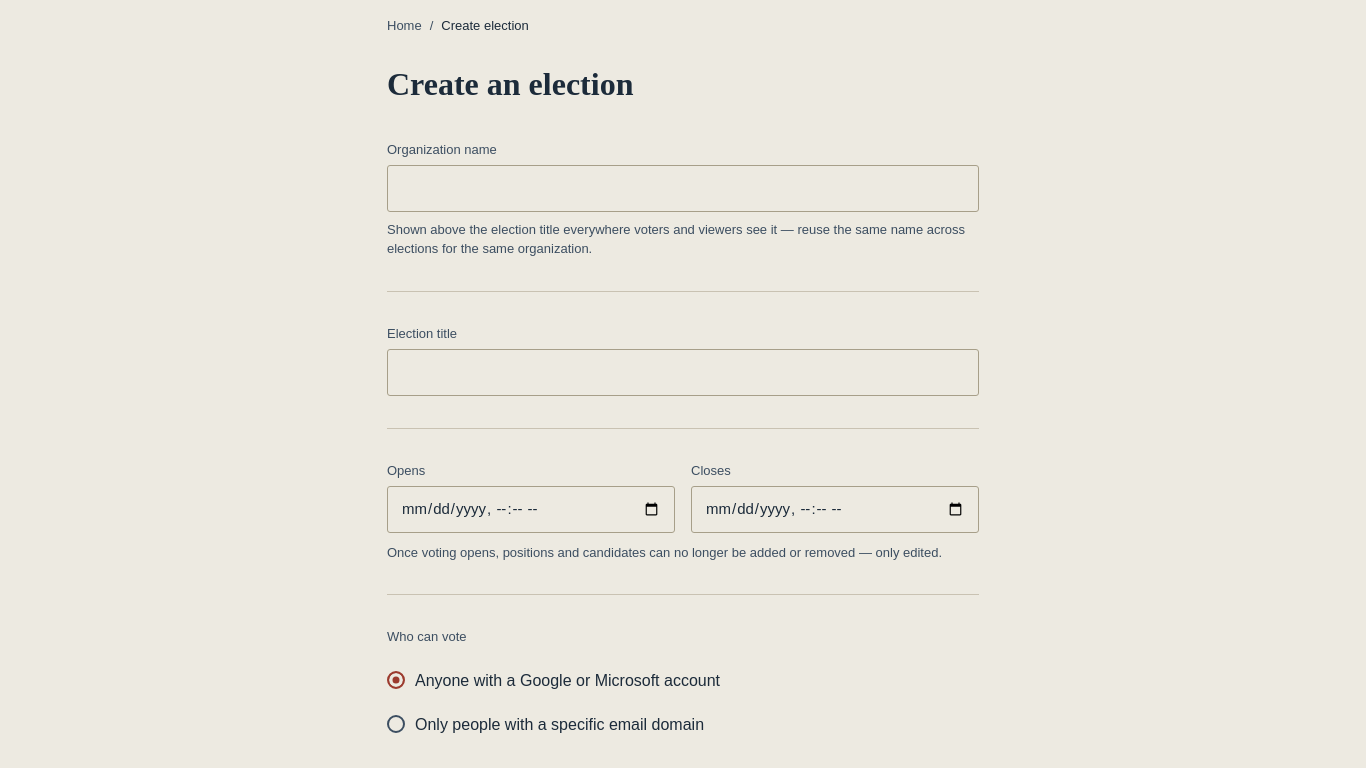
Test: CreateElectionForm validation › blocks submit when a date is cleared instead of throwing on toISOString
Type "Riverside Co-op" into the field labelled "Organization name" at (683,188), box left=387, top=165, right=979, bottom=212
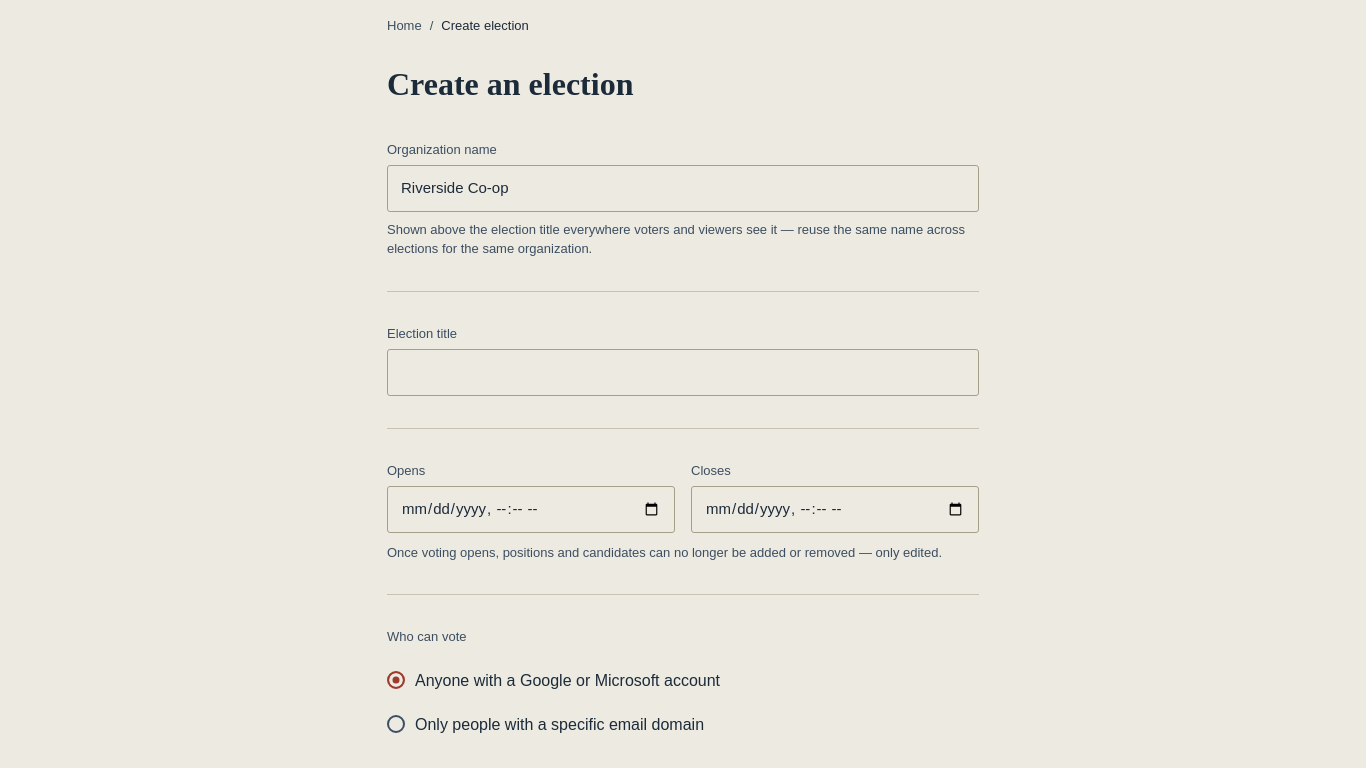
Type "  Board election  " into the field labelled "Election title" at (683,372), box left=387, top=349, right=979, bottom=396
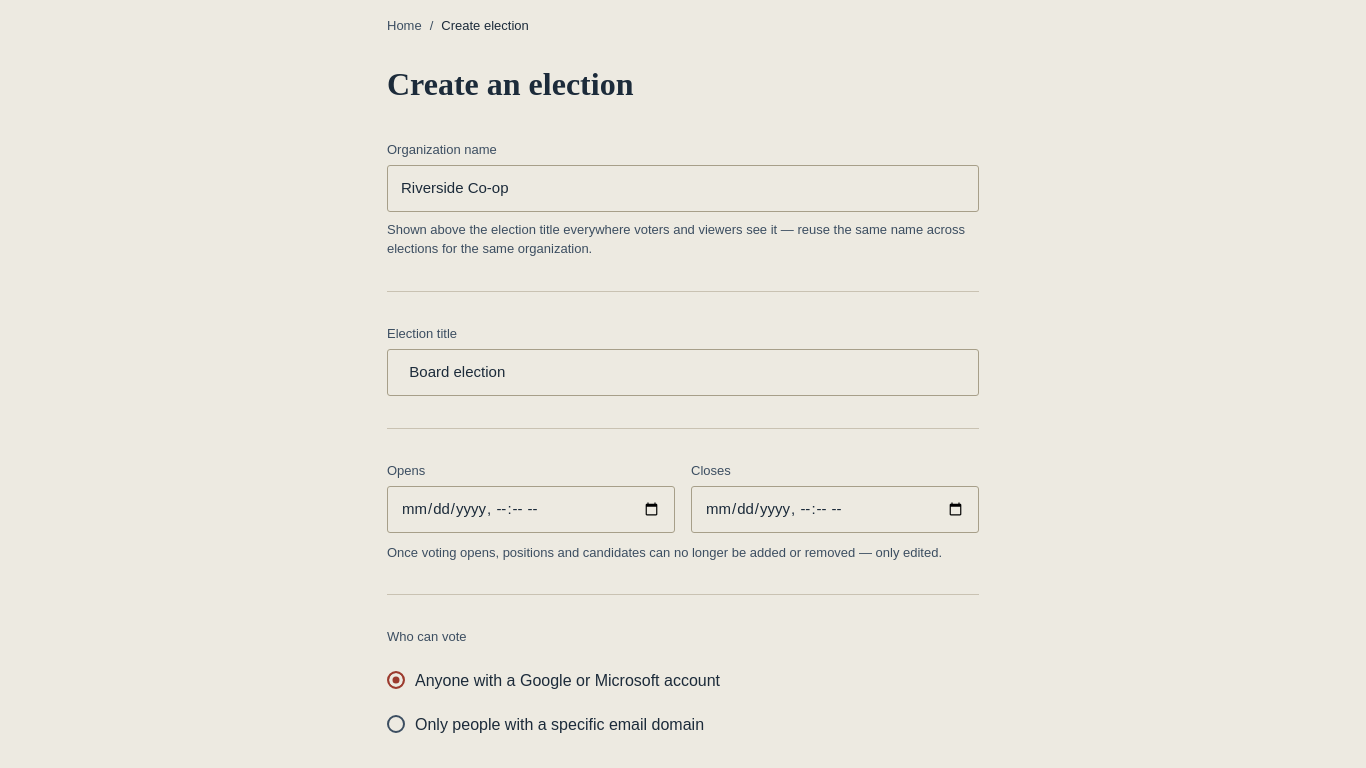
Type "2099-01-01T09:00" into the field labelled "Opens" at (531,509), box left=387, top=486, right=675, bottom=532
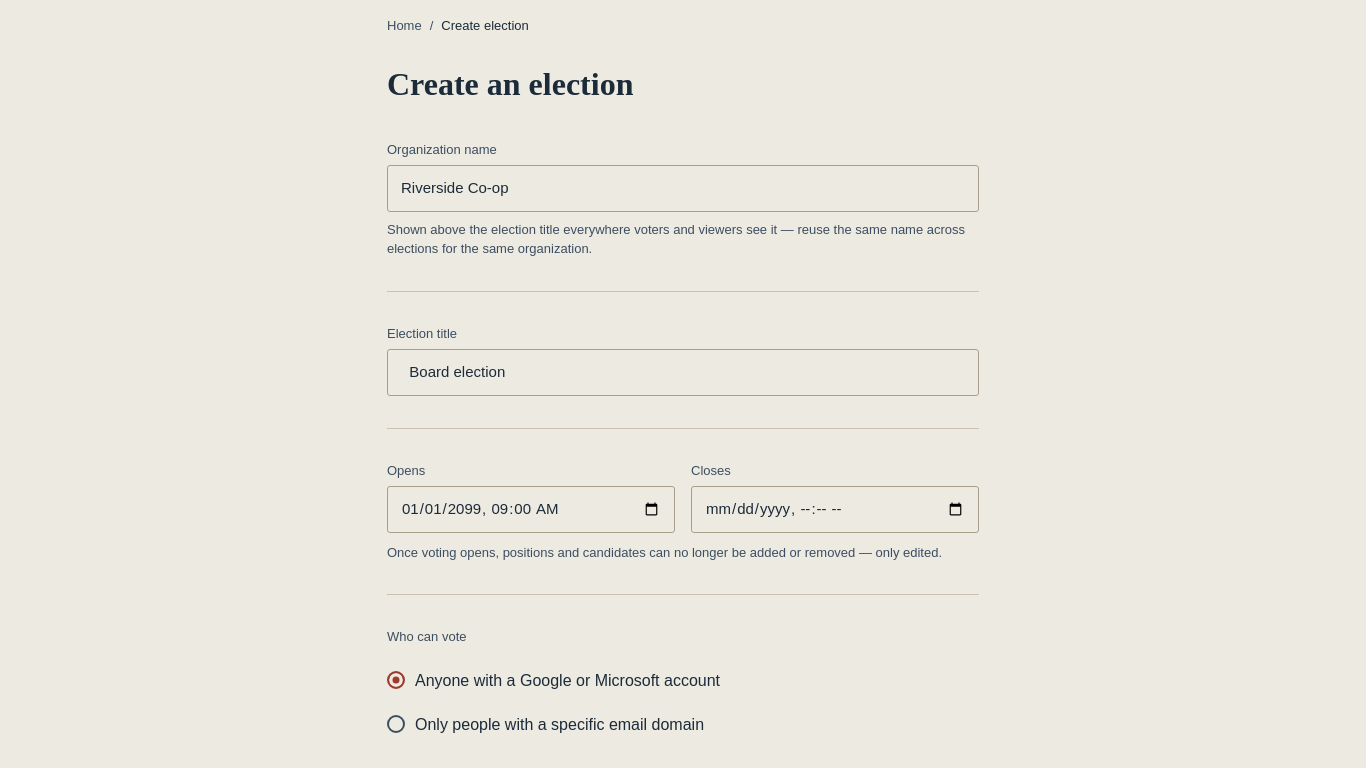
Type "2099-01-15T17:00" into the field labelled "Closes" at (835,509), box left=691, top=486, right=979, bottom=532
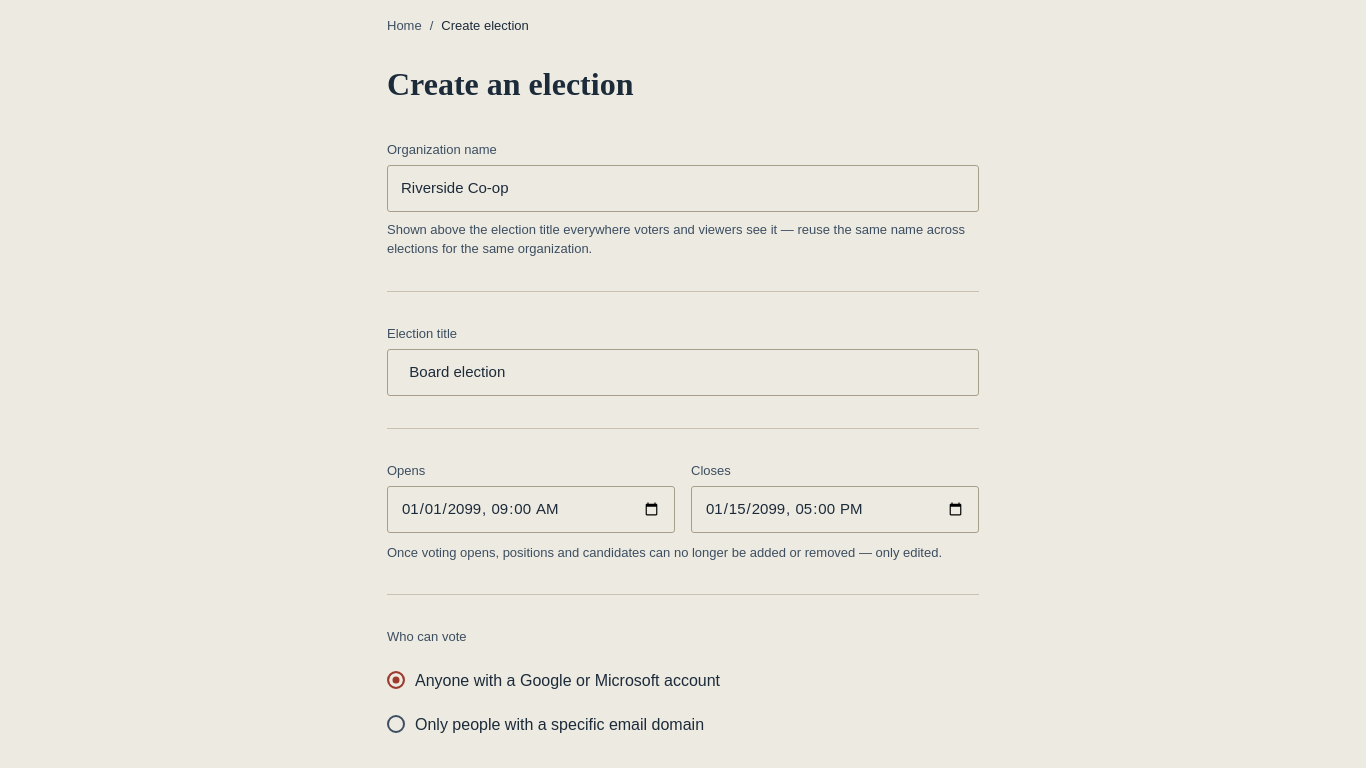
Clear the field labelled "Opens" at (531,509), box left=387, top=486, right=675, bottom=532
(page scrolled)
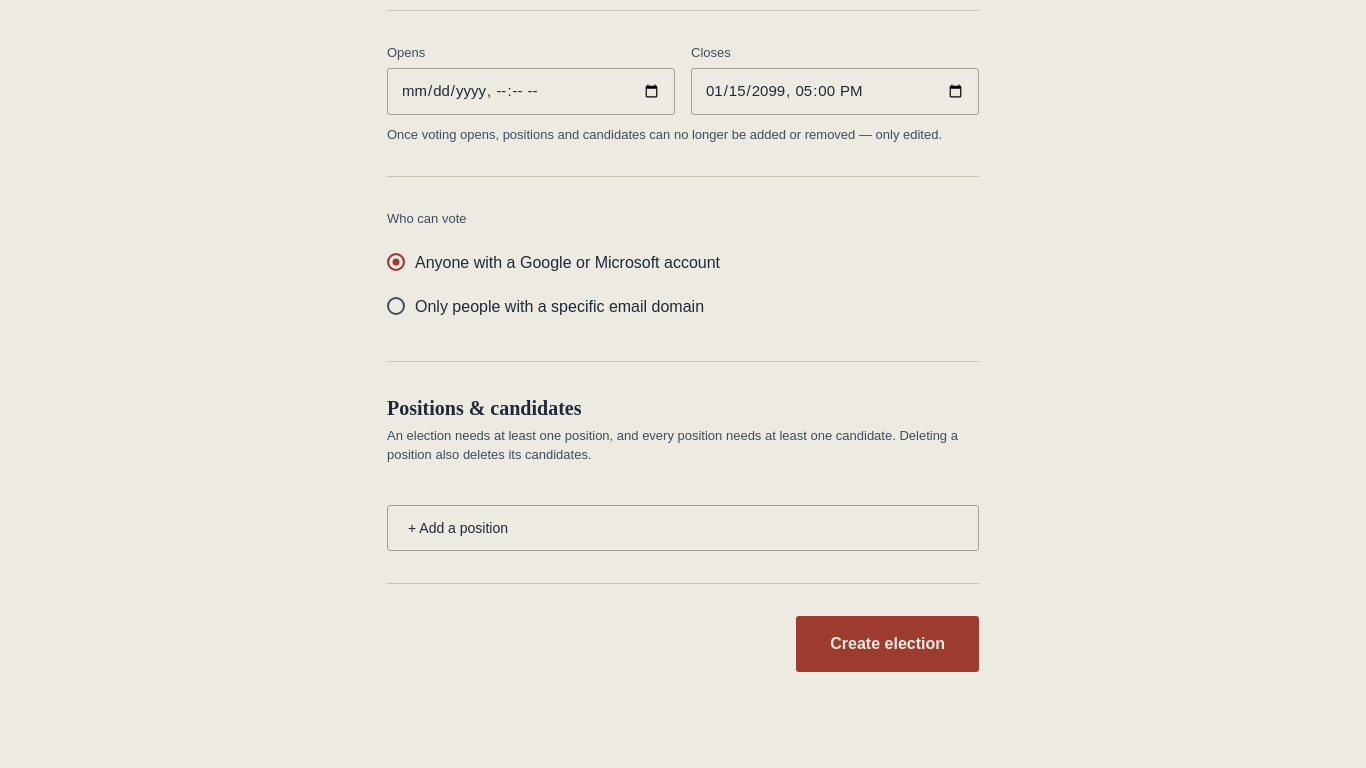
Click the button "Create election" at (888,644), box left=796, top=616, right=979, bottom=672
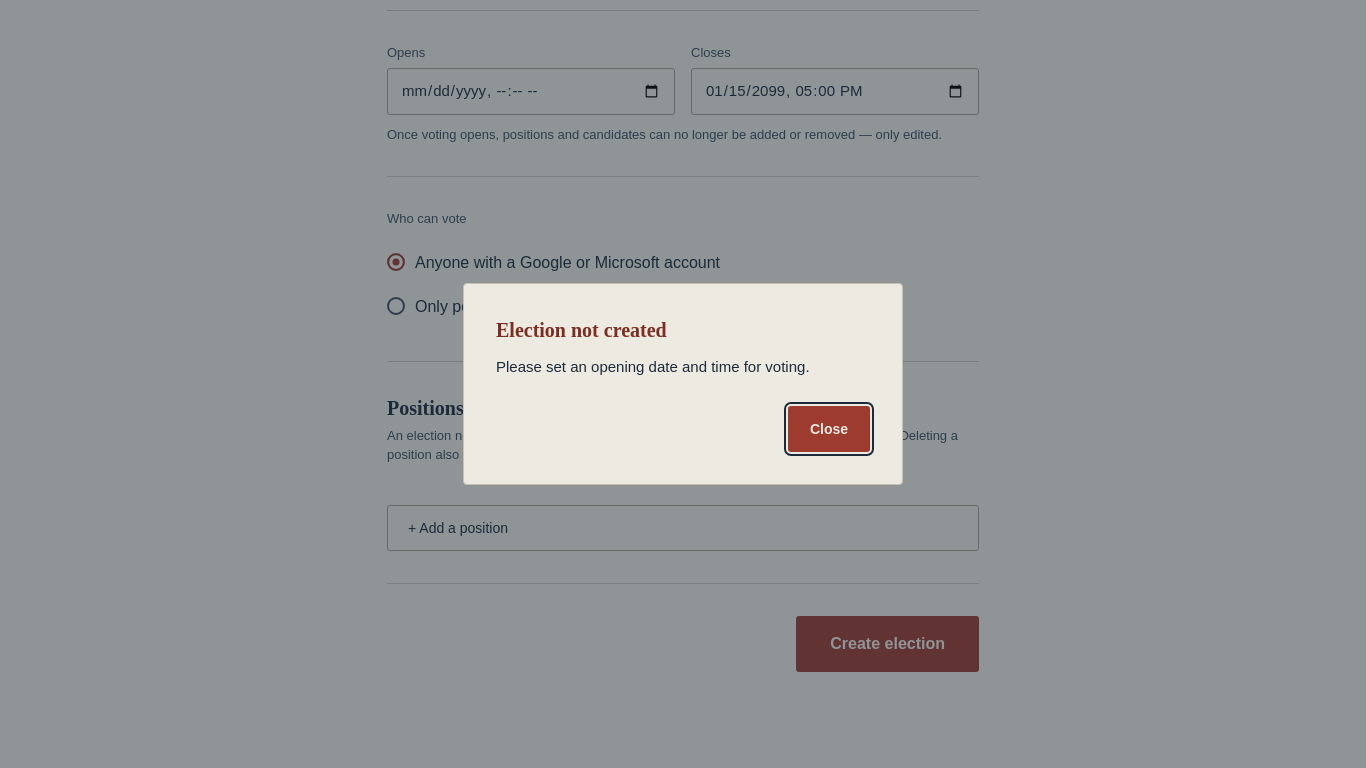
Now the dialog shows "Please set an opening date", box left=496, top=358, right=810, bottom=375
